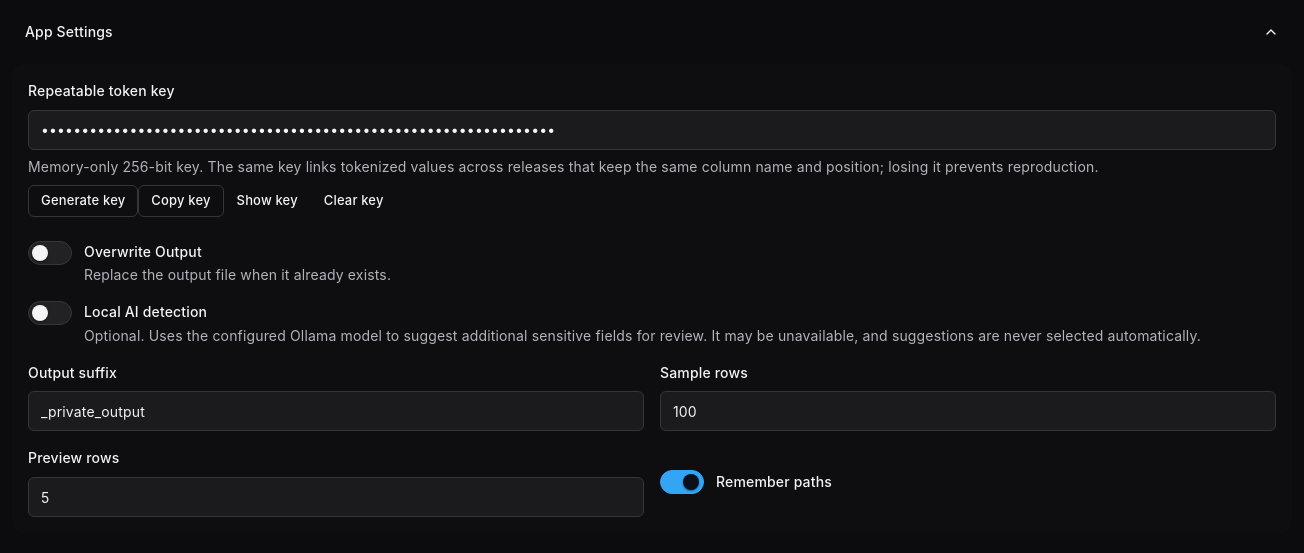
AppSettingsPanel › confirms when a valid key is copied
The width and height of the screenshot is (1304, 553).
Click the button "Copy key": x=181, y=201 [138,185,224,217]
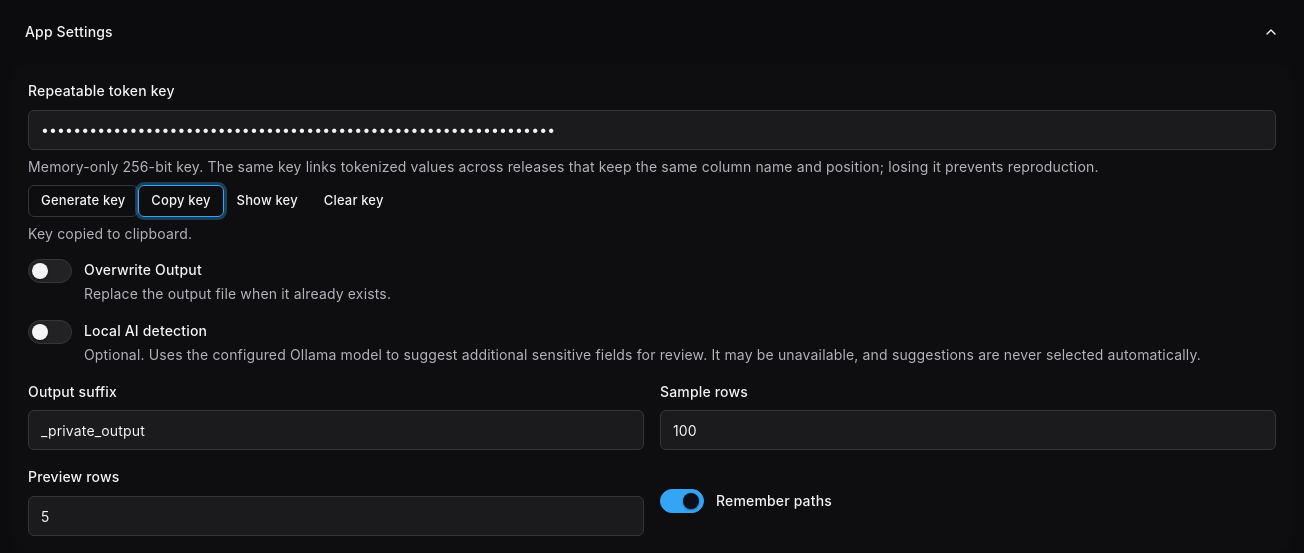
Check: the message reads "Key copied to clipboard.", box [28,225,192,242]
